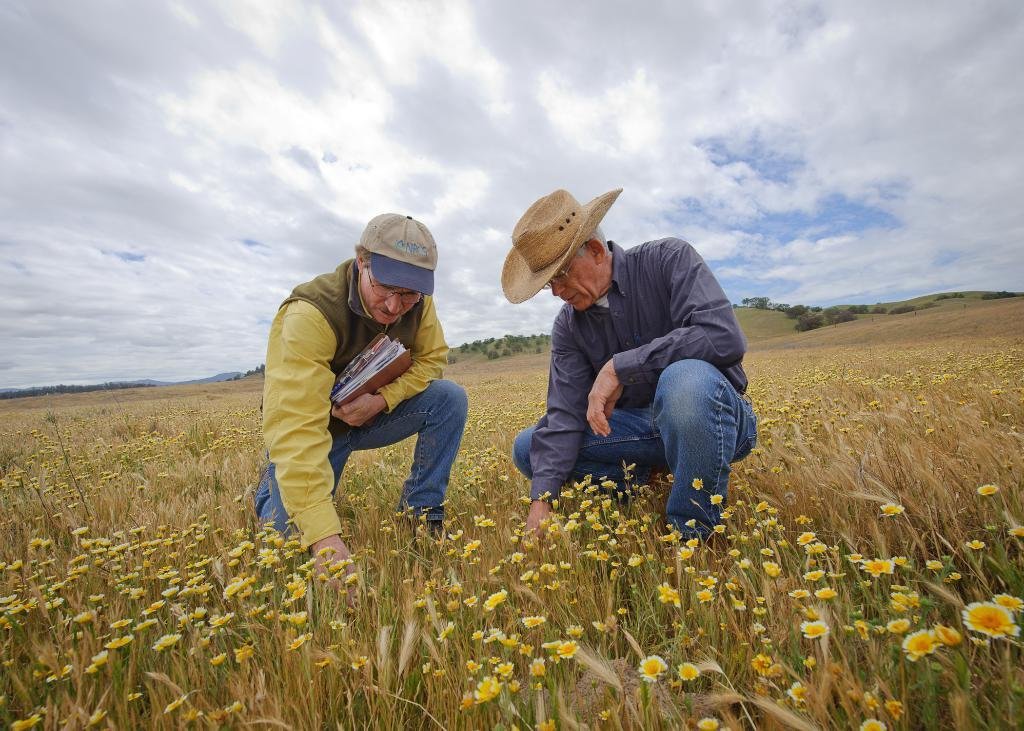Hat: (498, 182, 622, 302), (356, 207, 439, 298)
